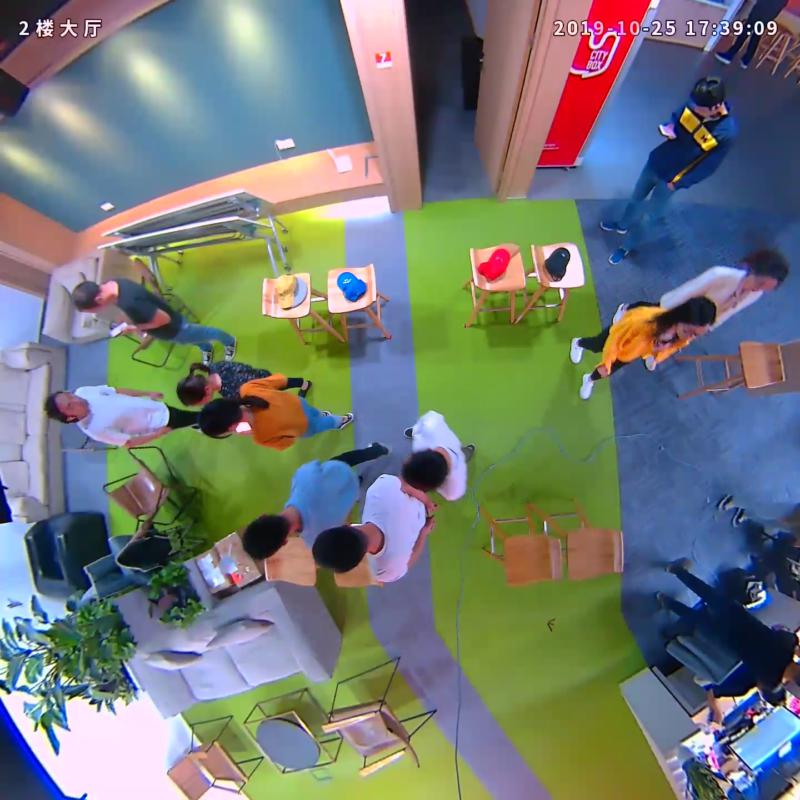head: (312, 523, 367, 574), (241, 513, 296, 561), (402, 448, 449, 492), (676, 296, 717, 342), (199, 397, 243, 436), (688, 75, 727, 119), (744, 255, 789, 293), (43, 389, 91, 423), (71, 279, 110, 313), (176, 373, 214, 407)
